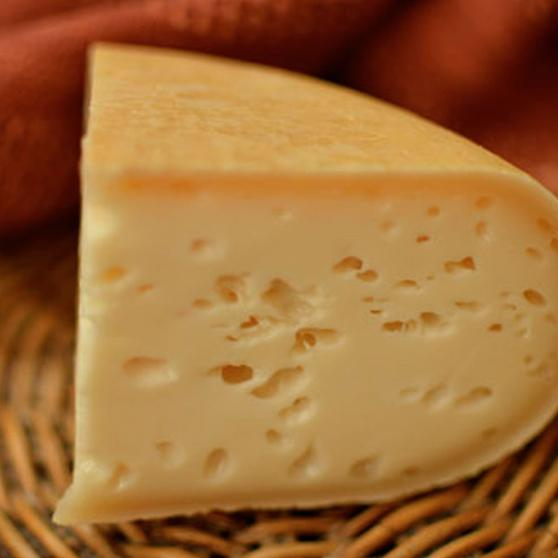cheese: (78, 48, 550, 529)
